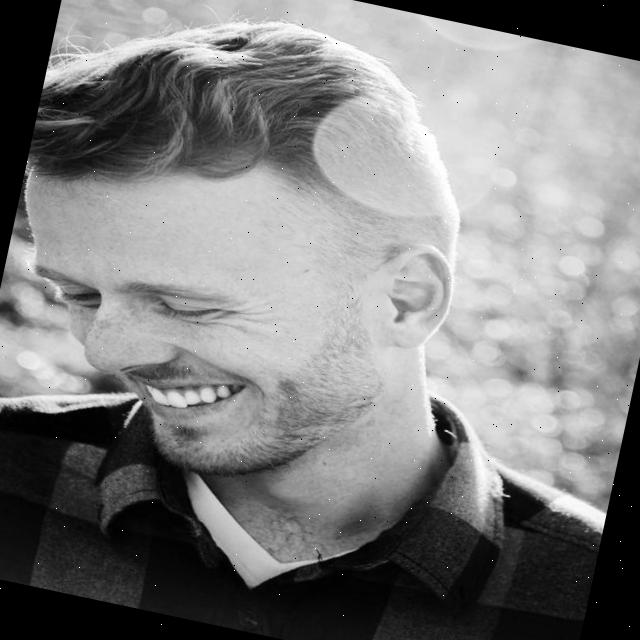Happiness: (0, 113, 425, 511)
